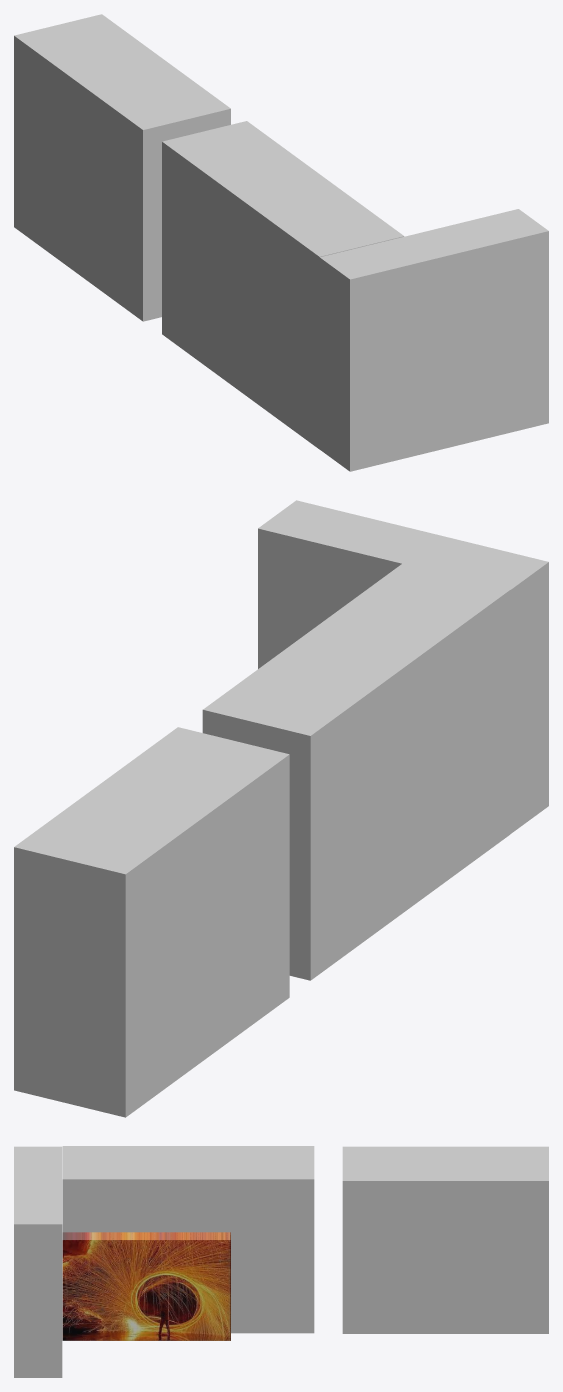
The picture shows the model from 3 angles, top to bottom: view 1: azimuth 30°, elevation 25°; view 2: azimuth 150°, elevation 25°; view 3: azimuth 270°, elevation 25°; orthographic projection. The views are drawn at different scales.
Parts seen in each view (by area): view 1: SketchUp.001, SketchUp, SketchUp.002; view 2: SketchUp.002, SketchUp, SketchUp.001; view 3: SketchUp.002, SketchUp, SketchUp.003, SketchUp.001.
Part boxes in pixels (bbox=[...]): SketchUp.001: bbox=[319, 209, 548, 471]; SketchUp: bbox=[162, 121, 404, 449]; SketchUp.002: bbox=[14, 14, 230, 321]; SketchUp.002: bbox=[14, 727, 289, 1117]; SketchUp: bbox=[202, 563, 510, 980]; SketchUp.001: bbox=[258, 500, 548, 833]; SketchUp.002: bbox=[342, 1146, 548, 1333]; SketchUp: bbox=[62, 1146, 314, 1333]; SketchUp.003: bbox=[62, 1232, 230, 1340]; SketchUp.001: bbox=[14, 1146, 62, 1377].
Bounding box in the file's own units: 57.67 × 53.03 × 167.
Materials: 2 (1 with a texture image).
